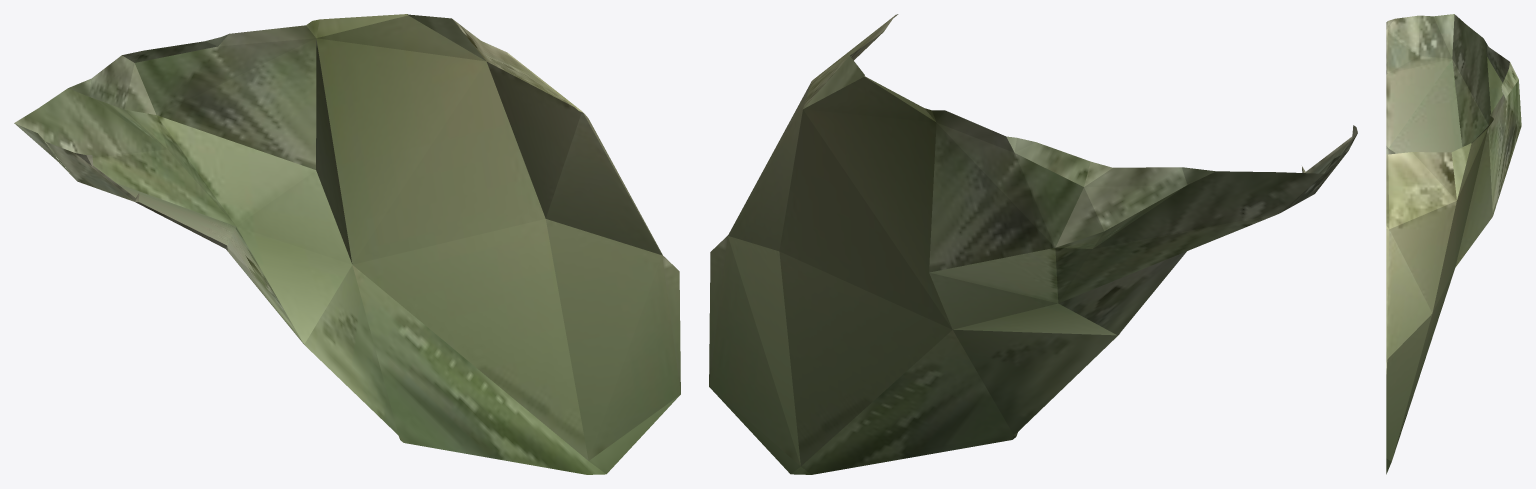
3 views of the same model, side by side, from view 1: azimuth 30°, elevation 25°; view 2: azimuth 150°, elevation 25°; view 3: azimuth 270°, elevation 25° (orthographic). The views are drawn at different scales.
Bounding box in the file's own units: 2.12 × 1.47 × 0.6219.
1 material, 1 textured.
